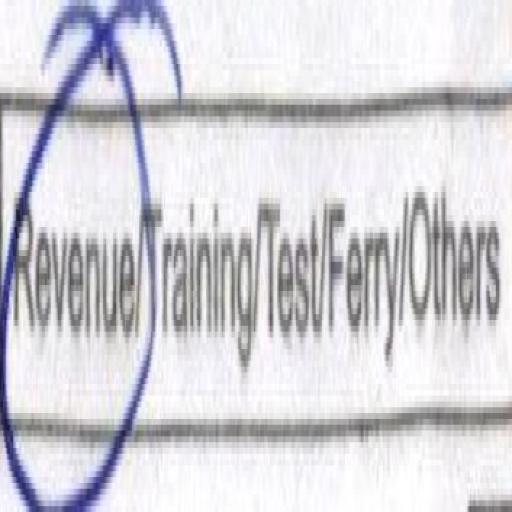check: (3, 1, 142, 512)
